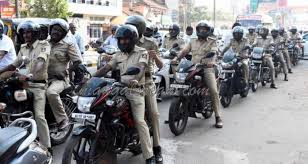helmet: (12, 19, 42, 49), (110, 22, 139, 49), (45, 15, 69, 44), (193, 21, 211, 46)
